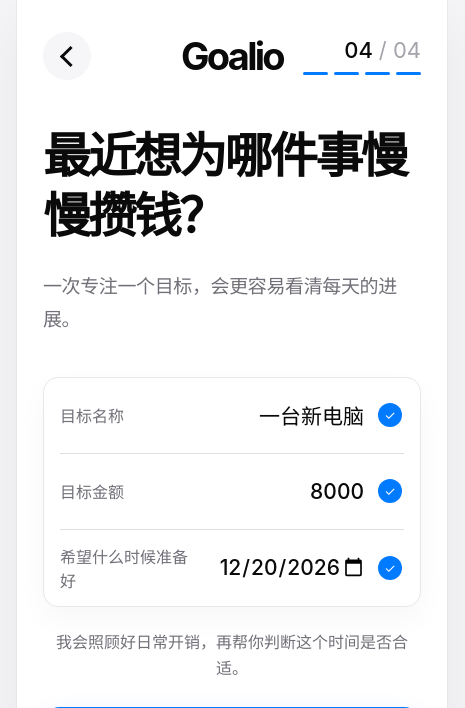
it: GoalioApp › returns from the goal step to fixed expenses
The width and height of the screenshot is (465, 708).
Click the button named "返回": (67, 56) [43,32,91,80]
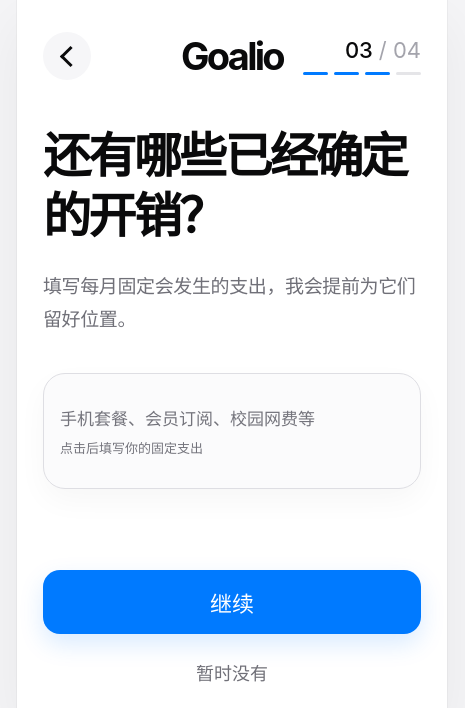
Check: the heading "还有哪些已经确定的开销？" is shown, box [43,126,421,246]
